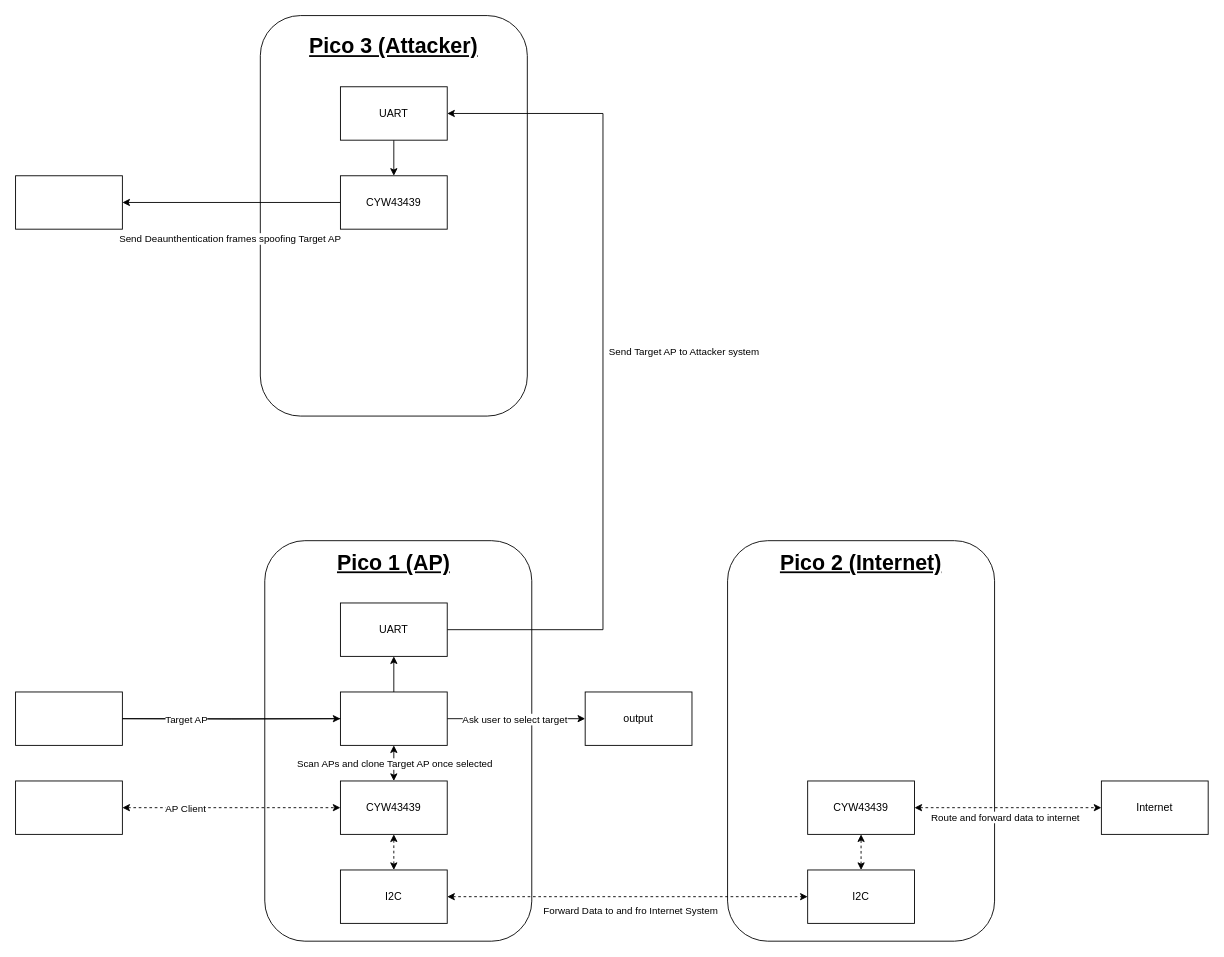
Some shapes in this 1224 by 957 pixel diagram are drawn without their labels. The shapes that lost their labels are listed below. From the top down, each one's centre as x and y in pixels, then its label:
the point at 68,202: Target AP clients
the point at 68,718: input
the point at 393,718: Serial
the point at 68,807: Data
